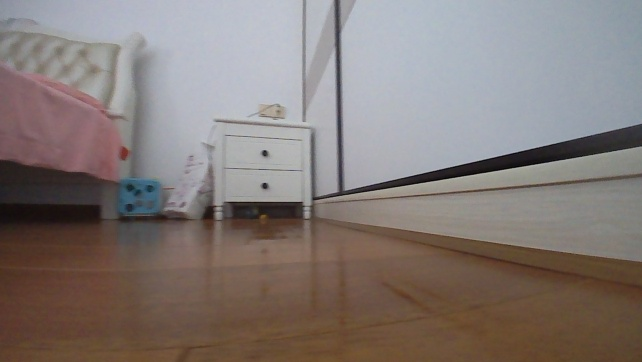bed1: (0, 12, 147, 222)
cabinet: (207, 112, 316, 223)
